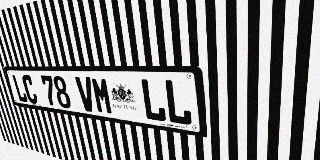7: (40, 75, 59, 107)
8: (52, 76, 72, 109)
C: (21, 75, 39, 104)
L: (163, 79, 193, 126), (140, 78, 167, 123), (11, 75, 28, 103)
M: (90, 77, 114, 115)
V: (75, 76, 97, 113)
